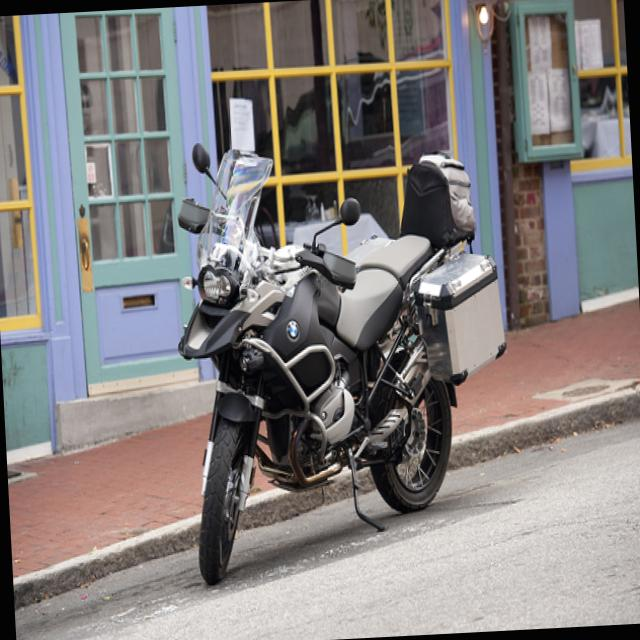Vehicle: (172, 118, 522, 590)
